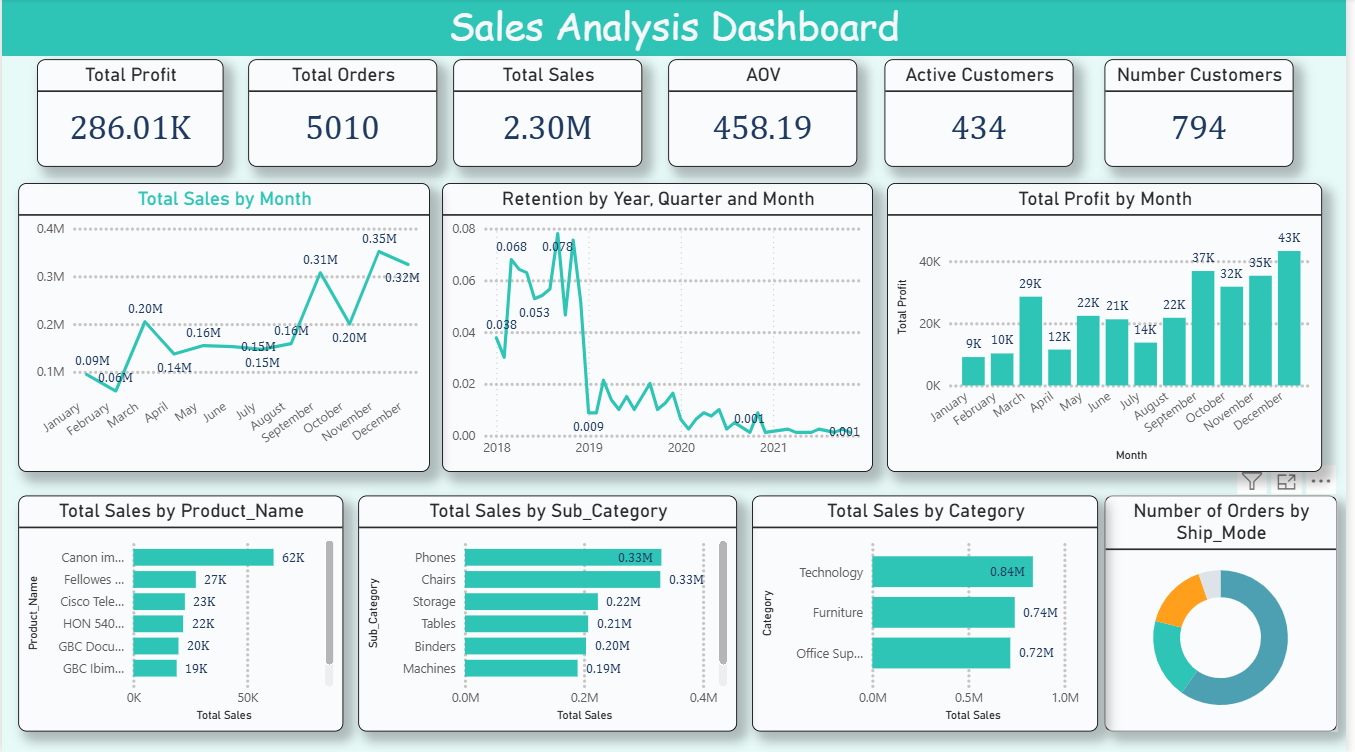

The dashboard page shown, as its layout file describes it:
{"tool":"powerbi","page":{"name":"Page 1","canvas":[1280,720],"ordinal":0},"visuals":[{"type":"lineChart","fields":{"Y":["Sales_NEWW.Retention"],"Category":["Sales_NEWW.FirstPurchaseDate.Variation.Date Hierarchy.Year","Sales_NEWW.FirstPurchaseDate.Variation.Date Hierarchy.Quarter","Sales_NEWW.FirstPurchaseDate.Variation.Date Hierarchy.Month","Sales_NEWW.FirstPurchaseDate.Variation.Date Hierarchy.Day"]},"box":[419,176.2,410.7,275],"z":0},{"type":"barChart","fields":{"Category":["Sales_NEWW.Product_ Hierarchy.Product_Name","Sales_NEWW.Product_ Hierarchy.Category","Sales_NEWW.Product_ Hierarchy.Sub_Category"],"Y":["Sales_NEWW.Total Sales"]},"box":[15.5,473.8,309.5,225],"z":1000},{"type":"lineChart","fields":{"Category":["Sales_NEWW.Order_Date.Variation.Date Hierarchy.Month"],"Y":["Sales_NEWW.Total Sales"]},"box":[15.5,176.2,391.7,275],"z":2000},{"type":"donutChart","fields":{"Category":["Sales_NEWW.Ship_Mode"],"Y":["Sales_NEWW.Number of Orders"]},"box":[1050,473.8,221.4,225],"z":3000},{"type":"barChart","fields":{"Category":["Sales_NEWW.Category"],"Y":["Sales_NEWW.Total Sales"]},"box":[714.3,473.8,329.8,225],"z":4000},{"type":"barChart","fields":{"Category":["Sales_NEWW.Sub_Category"],"Y":["Sales_NEWW.Total Sales"]},"box":[339.3,473.8,360.7,225],"z":5000},{"type":"columnChart","fields":{"Category":["Sales_NEWW.Order_Date.Variation.Date Hierarchy.Month"],"Y":["Sales_NEWW.Total Profit"]},"box":[842.9,176.2,414.3,275],"z":6000},{"type":"card","title":"Total Profit","fields":{"Values":["Sales_NEWW.Total Profit"]},"box":[33.3,58.3,177.4,102.4],"z":7000},{"type":"card","title":"Total Orders","fields":{"Values":["Sales_NEWW.Total Orders"]},"box":[234.5,58.3,179.8,102.4],"z":8000},{"type":"textbox","title":"Sales Analysis Dashboard","box":[0,0,1280,55],"z":9000},{"type":"card","title":"Total Sales","fields":{"Values":["Sales_NEWW.Total Sales"]},"box":[429.8,58.3,179.8,102.4],"z":10000},{"type":"card","title":"AOV","fields":{"Values":["Sales_NEWW.AOV"]},"box":[634.5,58.3,179.8,102.4],"z":11000},{"type":"card","title":"Active Customers","fields":{"Values":["Sales_NEWW.Active Customers"]},"box":[840.5,58.3,179.8,102.4],"z":12000},{"type":"card","title":"Number Customers","fields":{"Values":["Sales_NEWW.New Customers"]},"box":[1050,58.3,179.8,102.4],"z":13000}]}

Visuals, with their boxes in screenshot pixels (x1, y1, x2, y2), scaled from the page's 1280x720 canvas onto the 1355x752 screenshot:
lineChart - Sales_NEWW.Retention x Sales_NEWW.FirstPurchaseDate.Variation.Date Hierarchy.Year: 444:184:878:471
barChart - Sales_NEWW.Product_ Hierarchy.Product_Name x Sales_NEWW.Product_ Hierarchy.Category: 16:495:344:730
lineChart - Sales_NEWW.Order_Date.Variation.Date Hierarchy.Month x Sales_NEWW.Total Sales: 16:184:431:471
donutChart - Sales_NEWW.Ship_Mode x Sales_NEWW.Number of Orders: 1112:495:1346:730
barChart - Sales_NEWW.Category x Sales_NEWW.Total Sales: 756:495:1105:730
barChart - Sales_NEWW.Sub_Category x Sales_NEWW.Total Sales: 359:495:741:730
columnChart - Sales_NEWW.Order_Date.Variation.Date Hierarchy.Month x Sales_NEWW.Total Profit: 892:184:1331:471
"Total Profit" card: 35:61:223:168
"Total Orders" card: 248:61:439:168
"Sales Analysis Dashboard" textbox: 0:0:1354:57
"Total Sales" card: 455:61:645:168
"AOV" card: 672:61:862:168
"Active Customers" card: 890:61:1080:168
"Number Customers" card: 1112:61:1302:168
